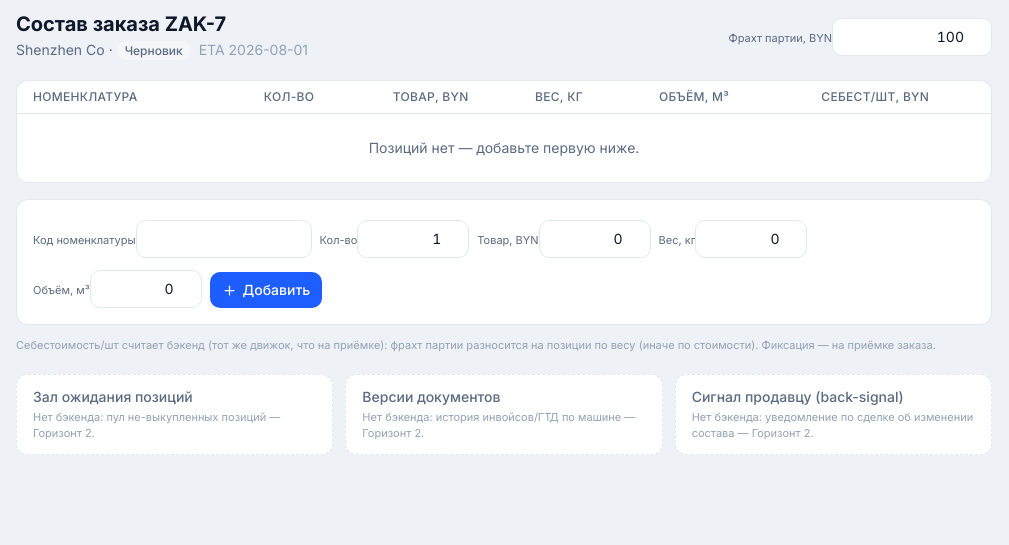
Test: ProcurementMachineEditor › добавление позиции без кода — валидация, addLine не зовётся
Click the button "Добавить": (266, 290) [210,272,322,308]
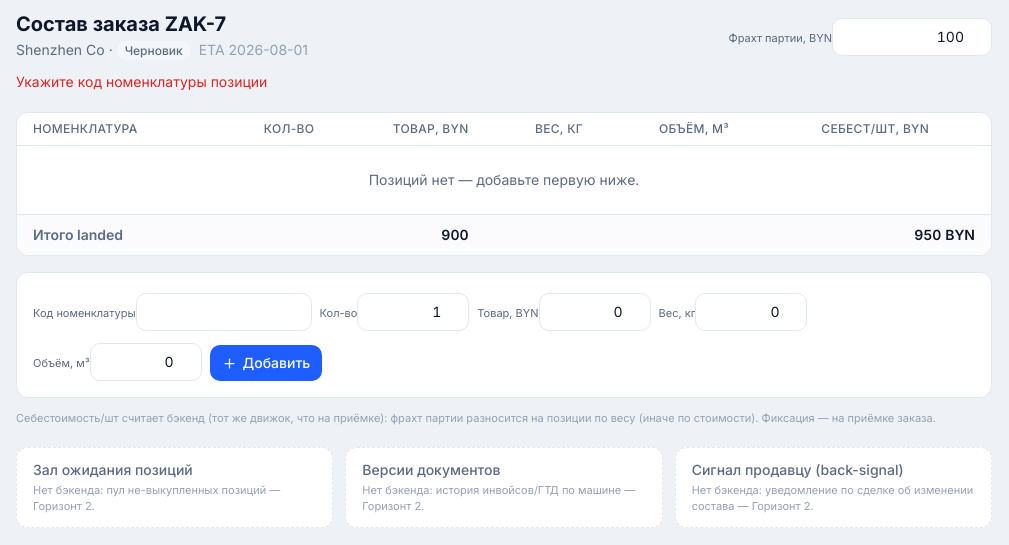
Result: the text "Укажите код номенклатуры позиции" is shown at [16,73,267,90]
